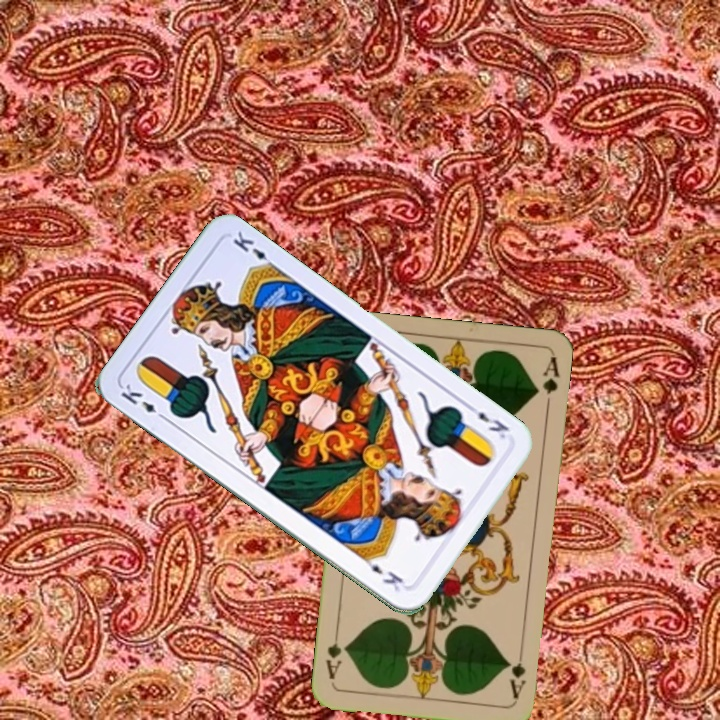EK: (117, 380, 170, 423), (463, 400, 512, 442)
GA: (506, 643, 528, 702)
